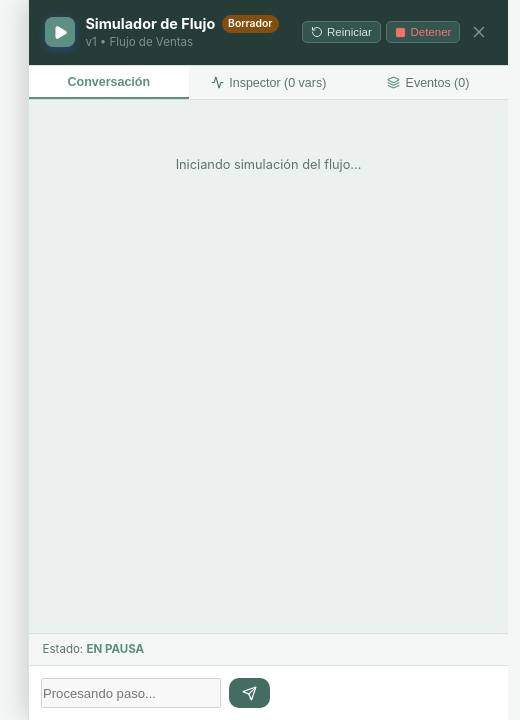
Test: FlowSimulatorDrawer Component › renders chronological event timeline in Events tab
This screenshot has width=520, height=720.
Click the button "Eventos (0)" at point(428, 83), box top-left (348, 66), bottom-right (508, 99)
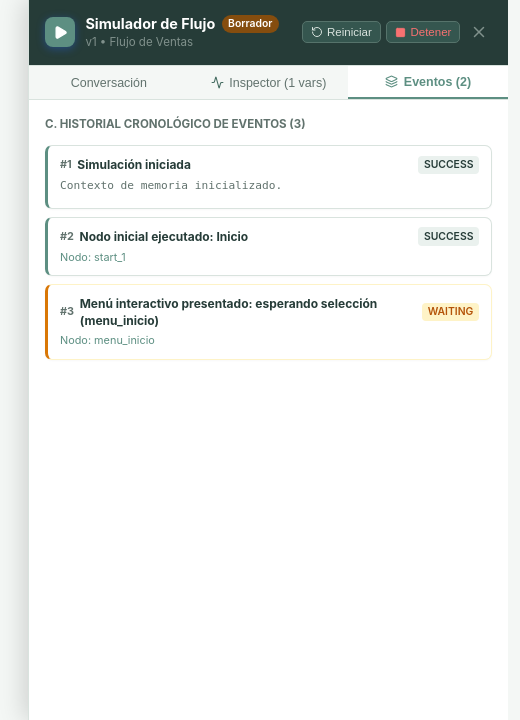
Expected: the text "Simulación iniciada" is shown, top-left (77, 157), bottom-right (191, 172)
Expected: the text "Nodo inicial ejecutado: Inicio" is shown, top-left (80, 229), bottom-right (248, 244)
Expected: the text "Menú interactivo presentado: esperando selección (menu_inicio)" is shown, top-left (80, 296), bottom-right (377, 328)
